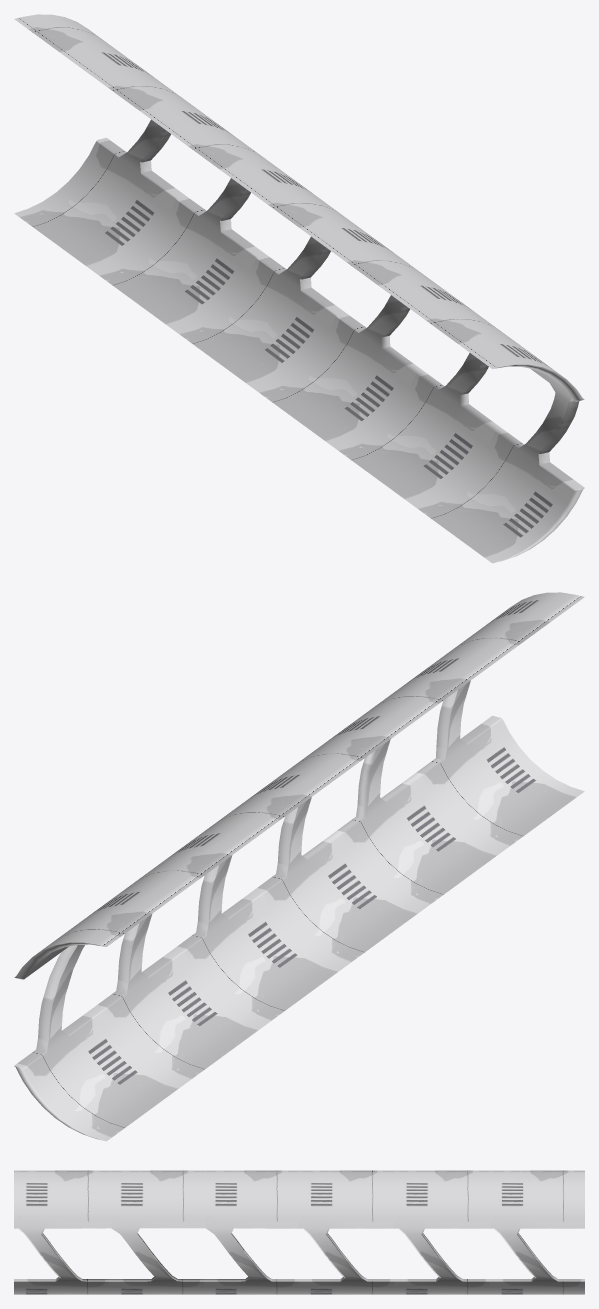
Rendered from window.fbx.
3 renders of one model, top to bottom at view 1: azimuth 30°, elevation 25°; view 2: azimuth 150°, elevation 25°; view 3: azimuth 270°, elevation 25°, orthographic. The views are drawn at different scales.
Parts seen in each view (by area): view 1: tankB8_GEO; view 2: tankB8_GEO; view 3: tankB8_GEO.
Part boxes in pixels (x1,y1,x2,y2): tankB8_GEO: (14,14,584,563); tankB8_GEO: (14,592,584,1141); tankB8_GEO: (14,1170,584,1294).
Bounding box in the file's own units: 3.08 × 5.6 × 24.96.
1 material, 1 textured.
